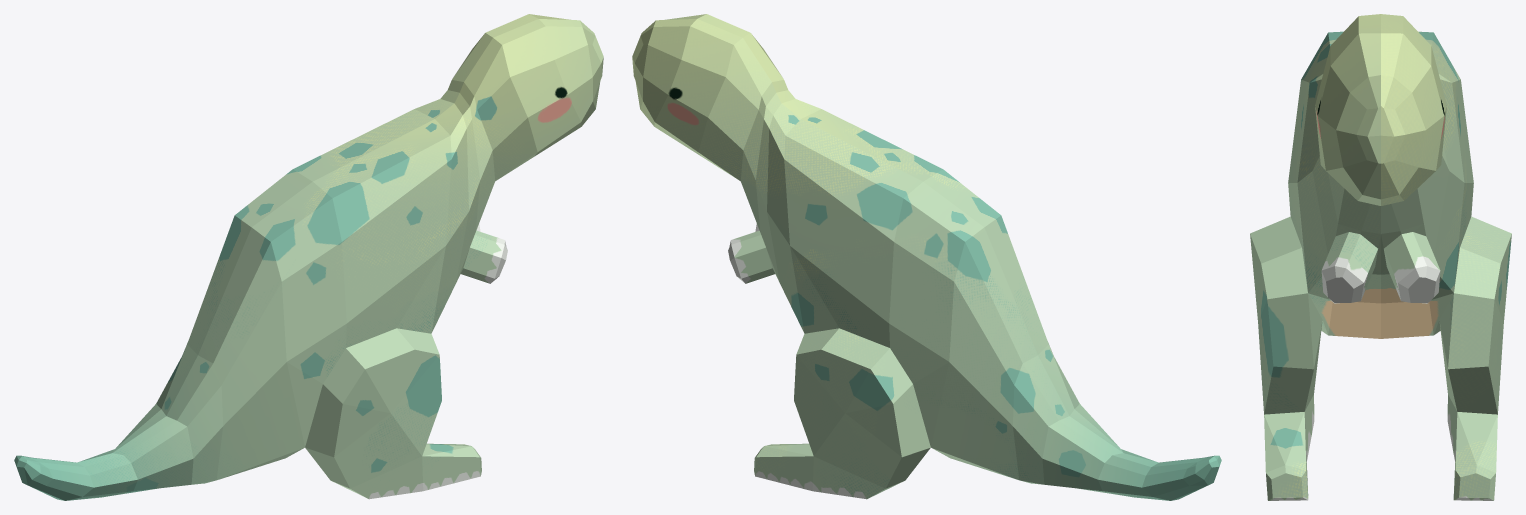
File: Plushie Dino UPDATED.fbx
The picture shows the model from 3 angles, left to right: view 1: azimuth 30°, elevation 25°; view 2: azimuth 150°, elevation 25°; view 3: azimuth 270°, elevation 25°; orthographic projection. The views are drawn at different scales.
Visible parts, largest first — view 1: dinosaur; view 2: dinosaur; view 3: dinosaur.
Part boxes in pixels (x1,y1,x2,y2): dinosaur: [14, 14, 603, 500]; dinosaur: [632, 14, 1221, 500]; dinosaur: [1250, 14, 1511, 500].
Size of the model in its own units: 478 by 314 by 140.
1 material, 1 textured.
